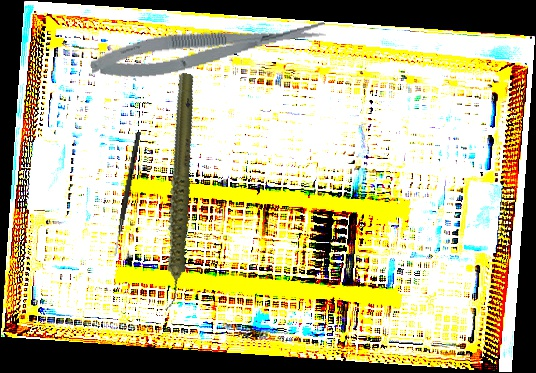Handpiece: (109, 70, 244, 314)
Hook Surgical: (113, 131, 141, 257)
Micro Scissor: (88, 12, 329, 86)
